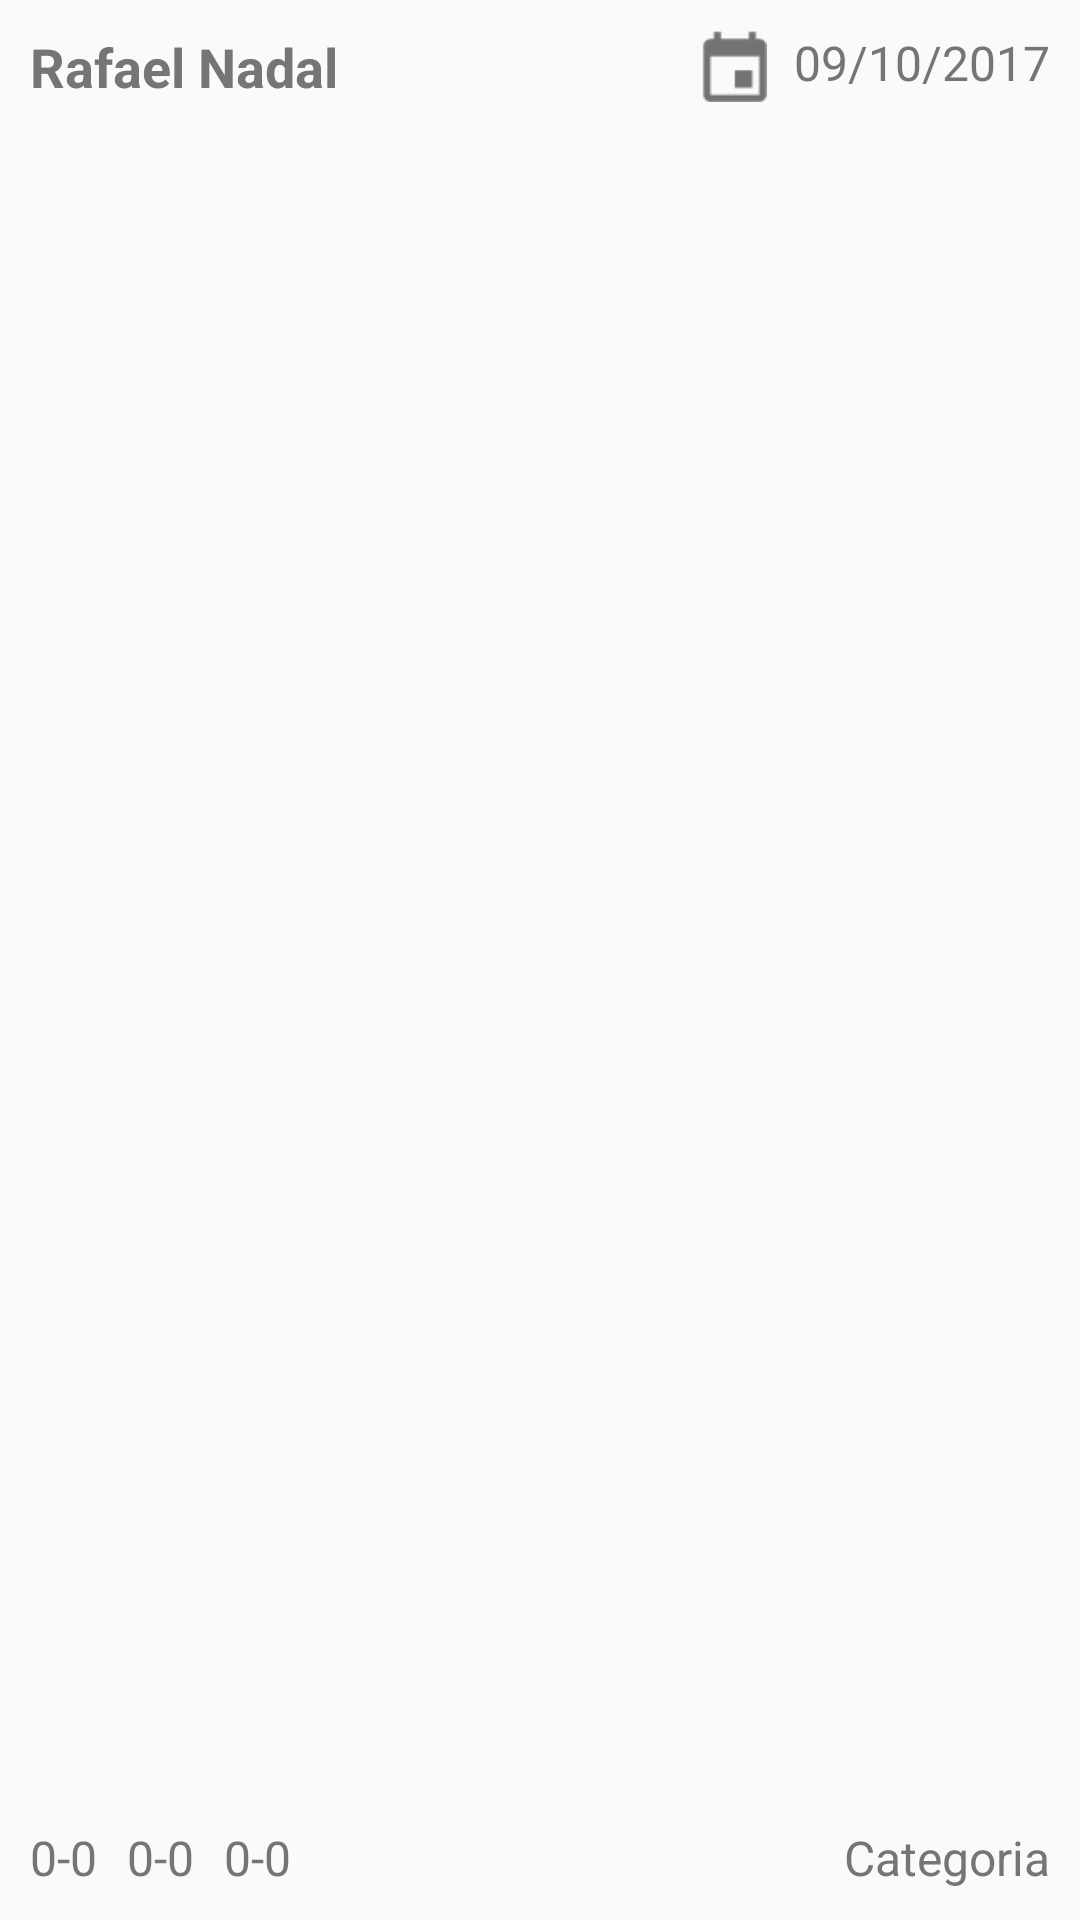

Icons on this 1080 x 1920 Android screen, each with its box as (x1, y1, x2, y2):
calendar: (703, 31, 767, 102)
